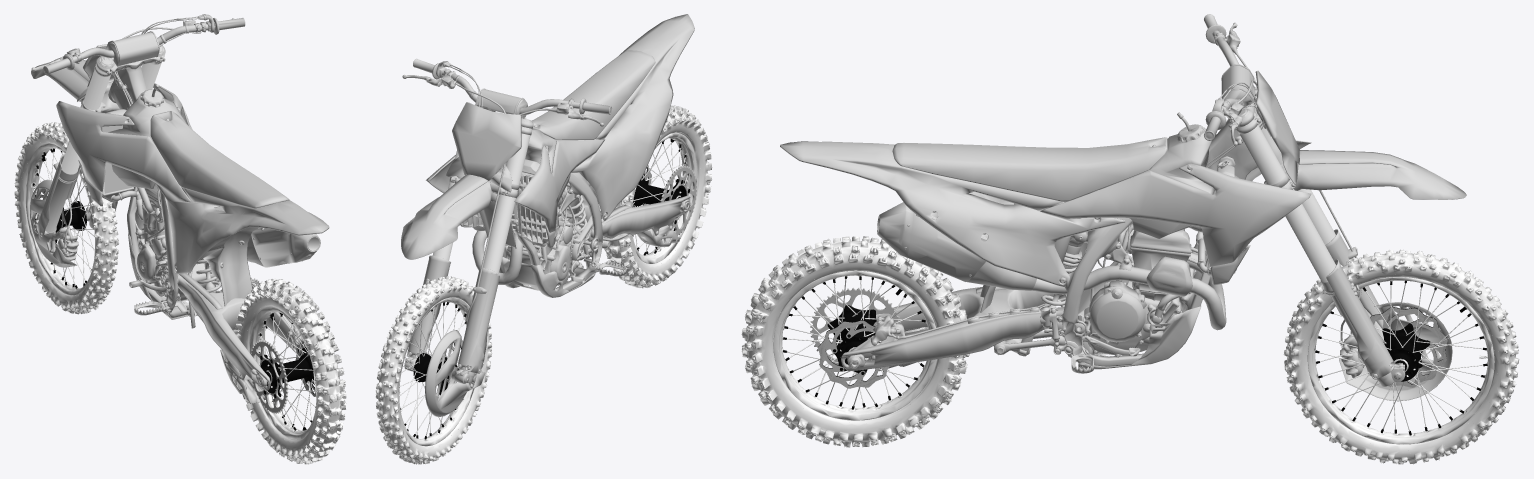
File: motocross.glb
3 views of the same model, side by side, from view 1: azimuth 30°, elevation 25°; view 2: azimuth 150°, elevation 25°; view 3: azimuth 270°, elevation 25° (orthographic). The views are drawn at different scales.
Parts seen in each view (by area): view 1: Akrapovic, Roue AR.001, gas cap.001; view 2: Akrapovic, Roue AR.001; view 3: Akrapovic, Roue AR.001, gas cap.001.
Boxes of the visible parts, x1=… form: Akrapovic: x1=30, y1=14, x2=329, y2=403; Roue AR.001: x1=14, y1=122, x2=346, y2=464; gas cap.001: x1=134, y1=84, x2=259, y2=315; Akrapovic: x1=401, y1=14, x2=694, y2=416; Roue AR.001: x1=375, y1=105, x2=712, y2=464; Akrapovic: x1=780, y1=14, x2=1466, y2=401; Roue AR.001: x1=741, y1=236, x2=1519, y2=464; gas cap.001: x1=1071, y1=112, x2=1204, y2=373.
Size of the model in its own units: 0.8093 by 1.26 by 2.21.
5 materials, 2 textured.
